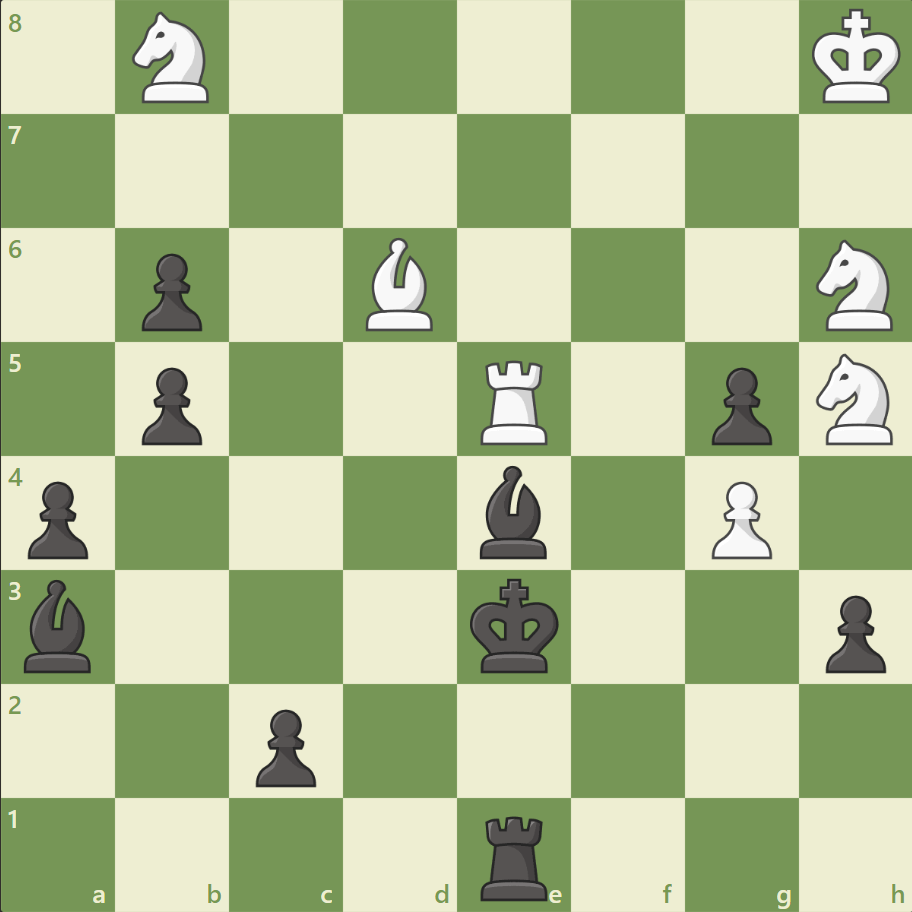B: (358, 233, 442, 336)
K: (806, 4, 906, 112)
N: (124, 7, 222, 110), (806, 234, 903, 337), (806, 348, 903, 450)
P: (701, 473, 776, 564)
R: (473, 352, 556, 449)
b: (471, 460, 555, 563), (17, 574, 101, 676)
k: (465, 571, 565, 679)
p: (133, 246, 208, 337), (133, 359, 208, 450), (701, 359, 776, 450), (20, 473, 95, 564), (247, 700, 322, 791), (815, 586, 889, 677)
r: (473, 806, 556, 904)
